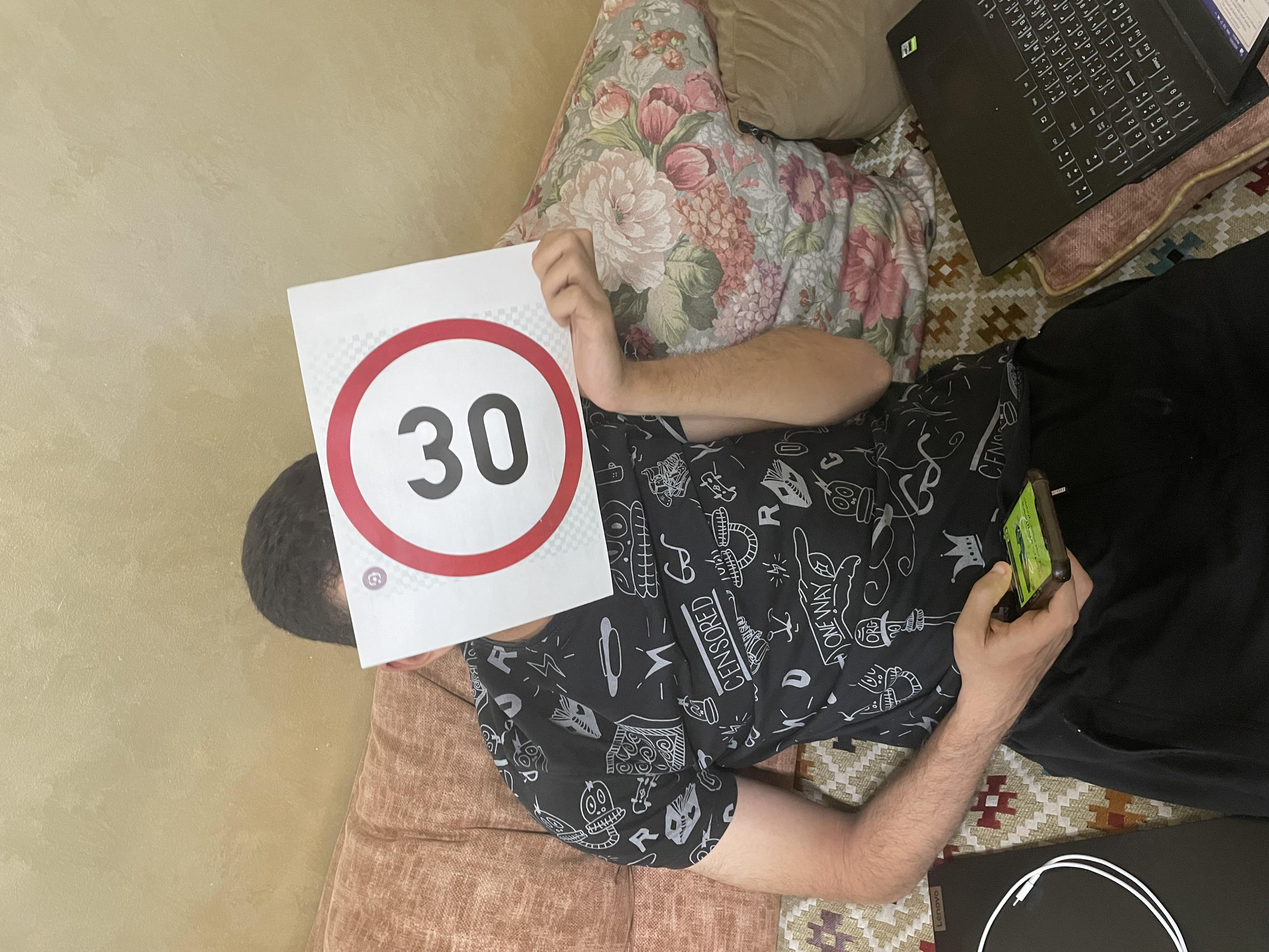30-speed: (492, 246, 857, 439)
